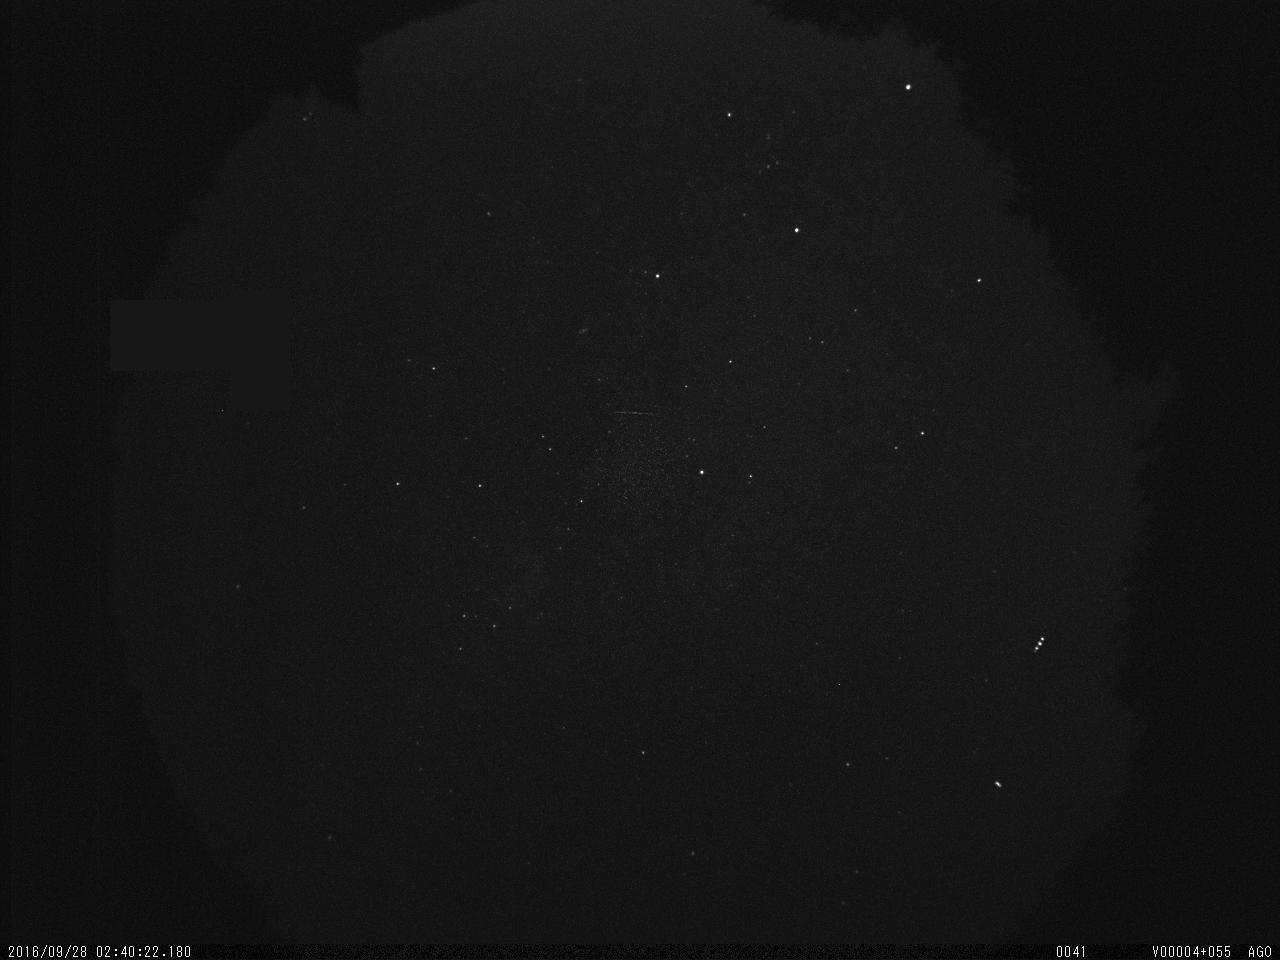meteor: (594, 397, 676, 435)
